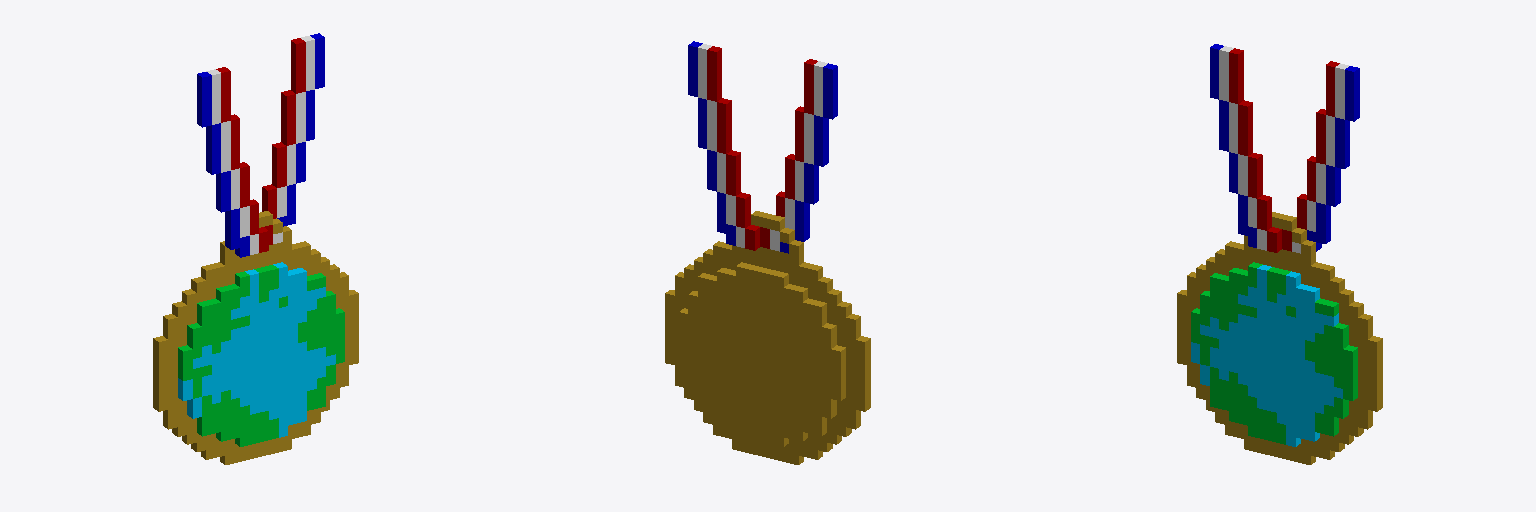
3 renders of one model, left to right at view 1: azimuth 30°, elevation 25°; view 2: azimuth 150°, elevation 25°; view 3: azimuth 330°, elevation 25°, orthographic.
Parts seen in each view (by area): view 1: object 1; view 2: object 1; view 3: object 1.
Part boxes in pixels (x1,y1,x2,y2): object 1: (153, 33, 358, 464); object 1: (665, 41, 870, 464); object 1: (1177, 44, 1382, 464).
Bounding box in the file's own units: 2.1 × 4 × 0.3.
Materials: 1 (1 with a texture image).